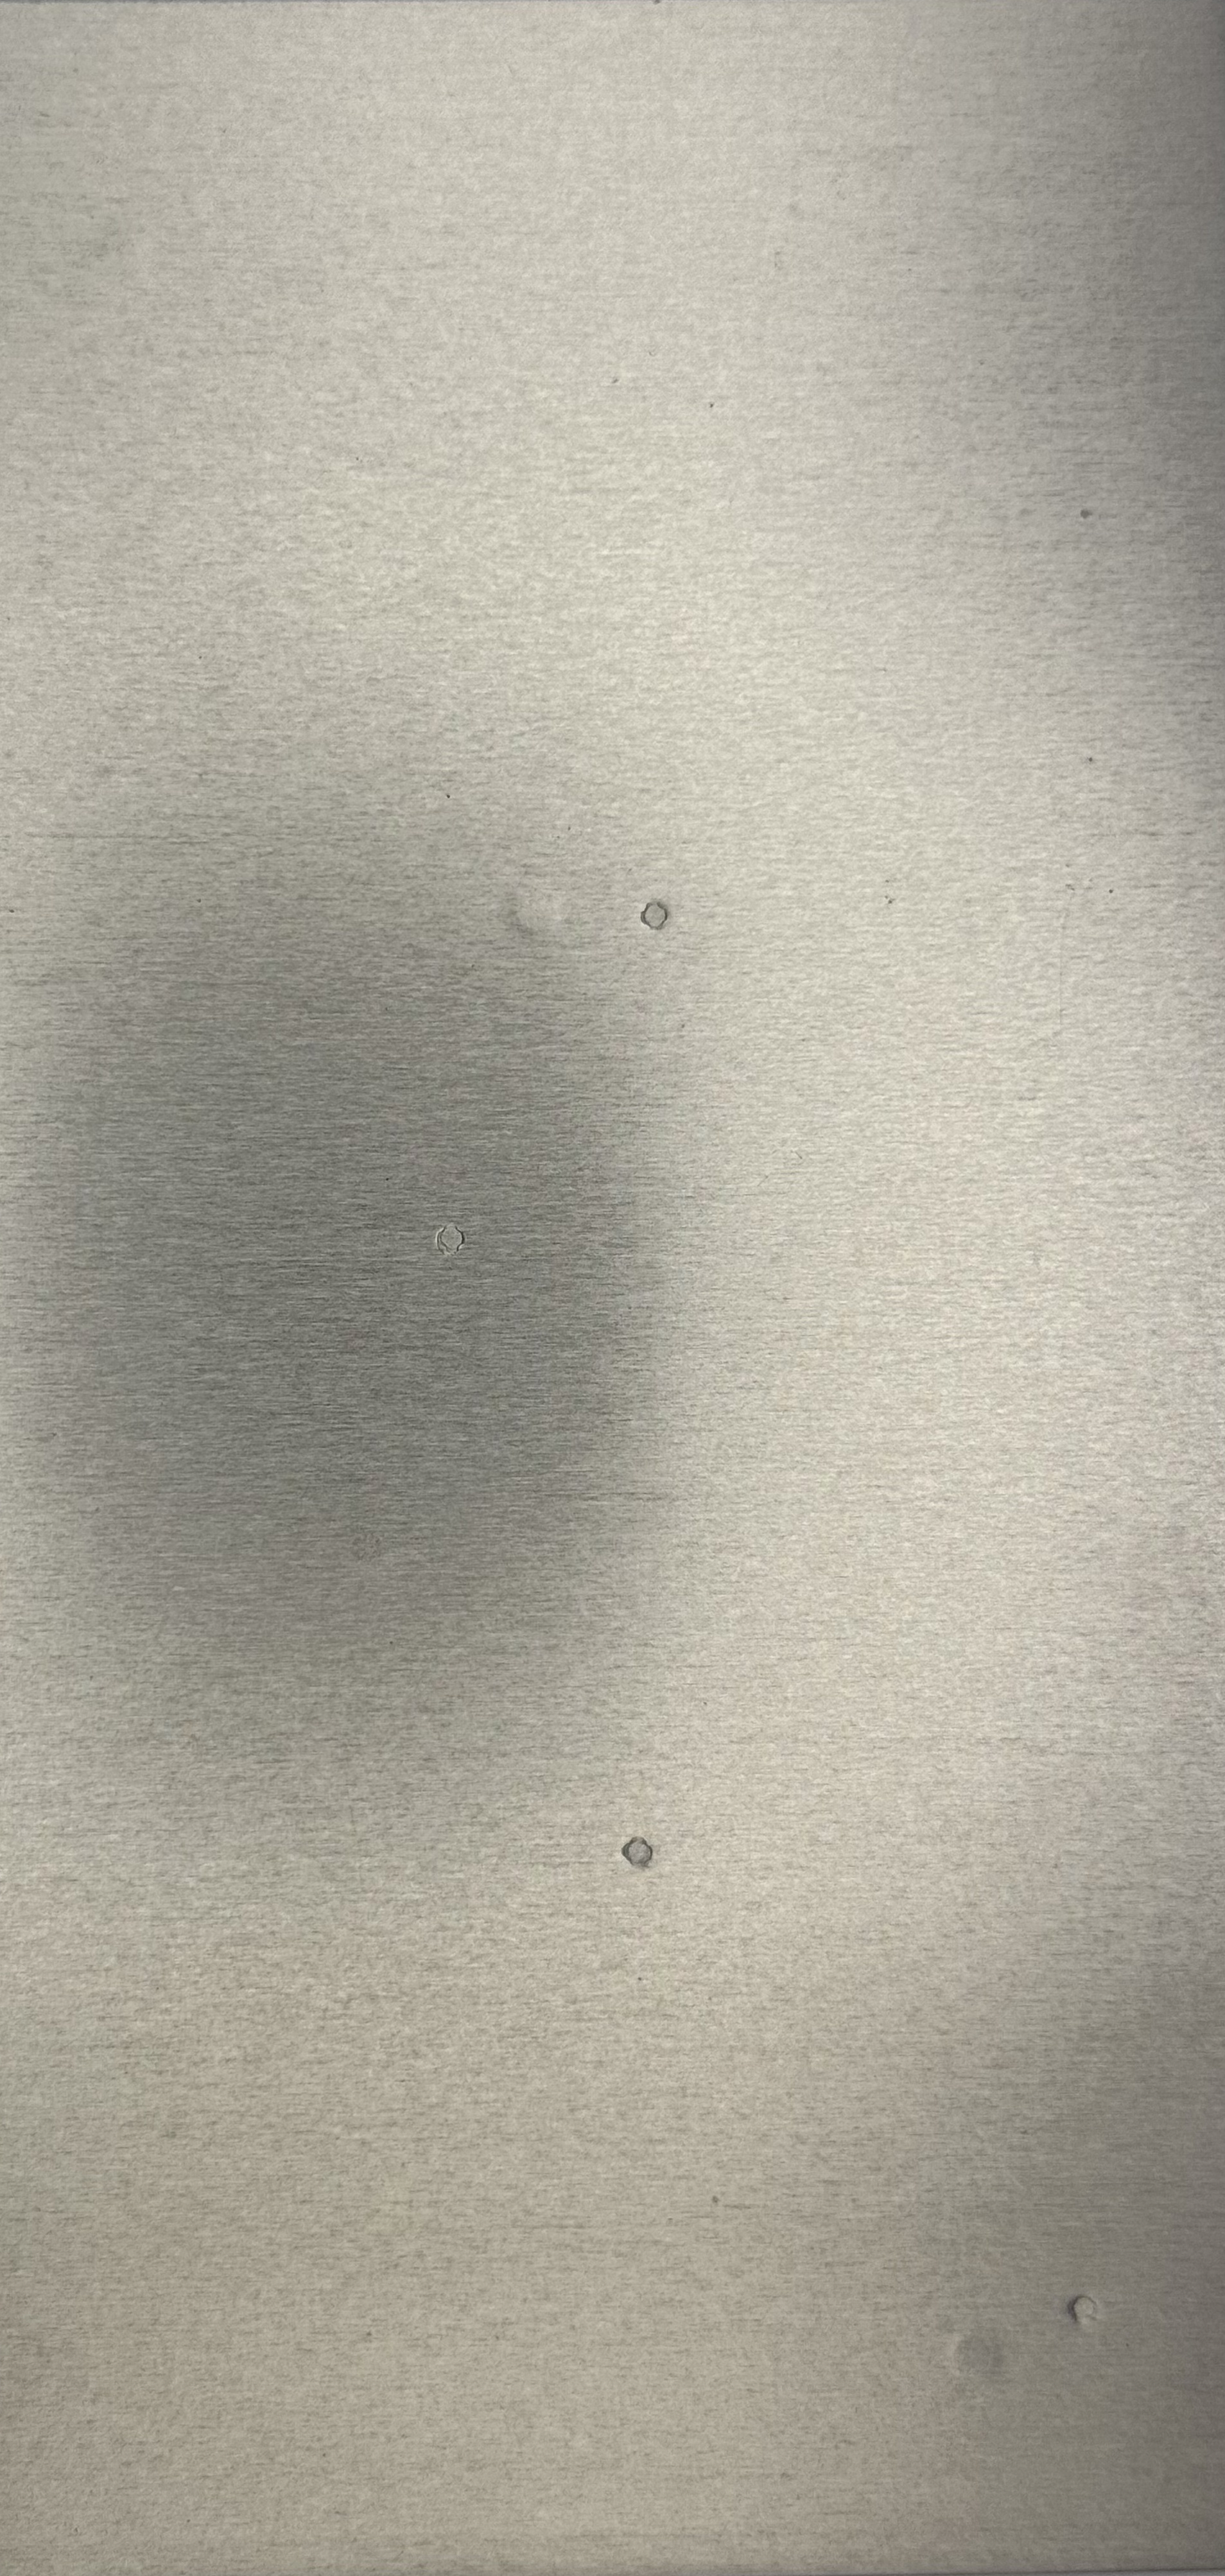Delle: (918, 2311, 1036, 2415), (496, 869, 594, 954), (414, 1209, 498, 1273), (619, 889, 691, 948), (609, 1827, 672, 1881), (1059, 2284, 1113, 2344)
